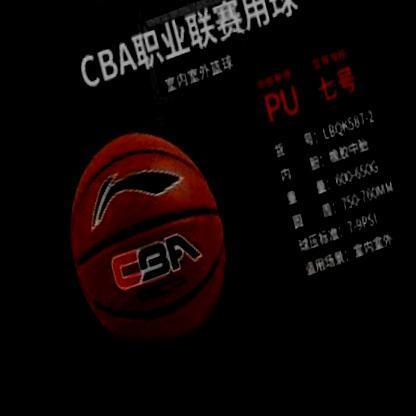basketball: (43, 110, 243, 384)
